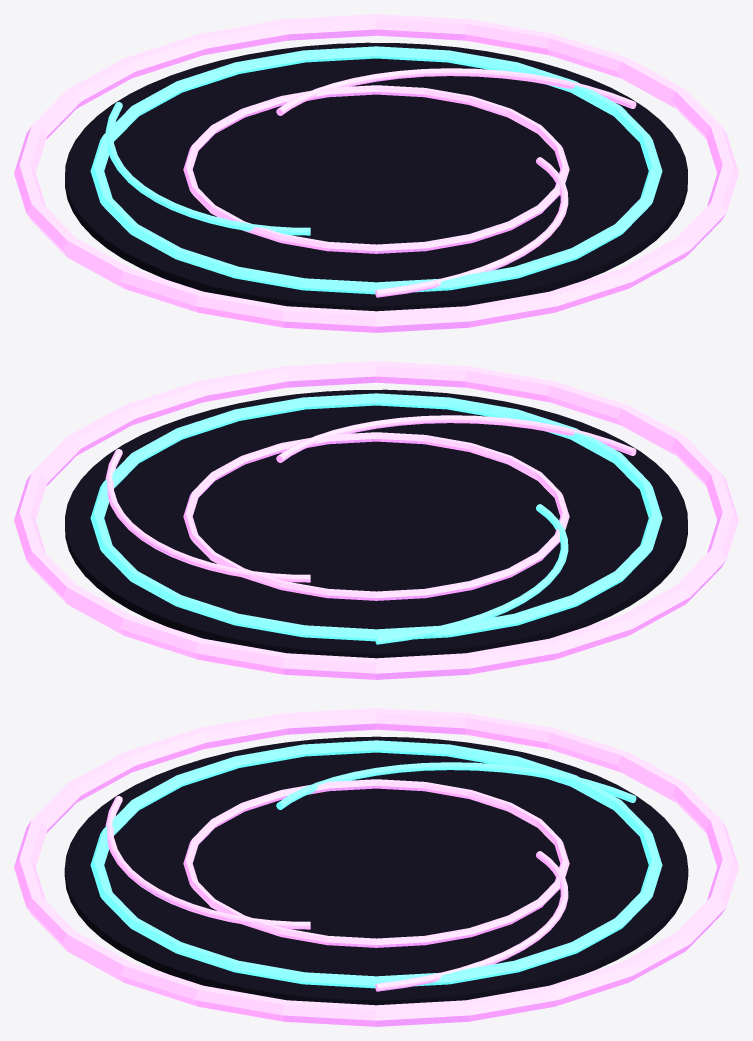
Rendered from black-hole.glb.
3 renders of one model, top to bottom at view 1: azimuth 30°, elevation 25°; view 2: azimuth 150°, elevation 25°; view 3: azimuth 270°, elevation 25°, orthographic.
Parts seen in each view (by area): view 1: black-hole; view 2: black-hole; view 3: black-hole.
Boxes of the visible parts, x1,y1,x2,y2 form: black-hole: (14, 14, 738, 332); black-hole: (14, 361, 738, 679); black-hole: (14, 708, 738, 1026).
Bounding box in the file's own units: 2 × 0.054 × 2.
